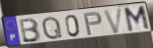0: (65, 14, 81, 38)
B: (19, 17, 43, 44)
M: (123, 4, 152, 34)
P: (82, 11, 104, 37)
Q: (41, 15, 64, 41)
V: (102, 7, 125, 35)
